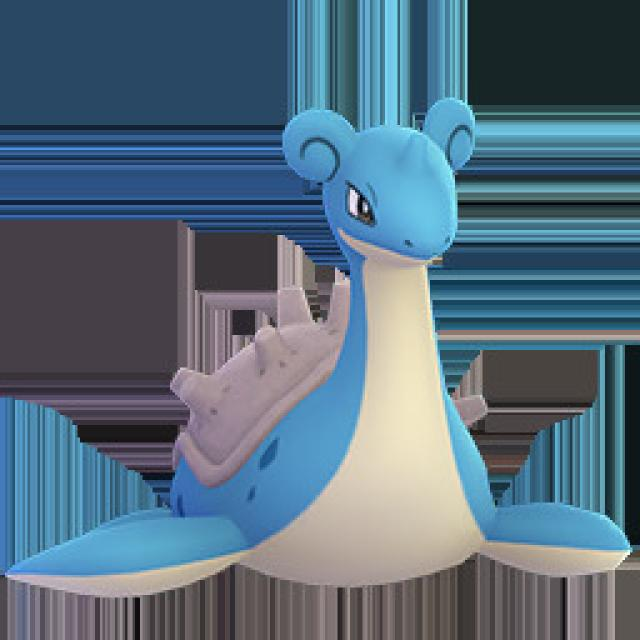Lapras: (112, 95, 514, 590)
